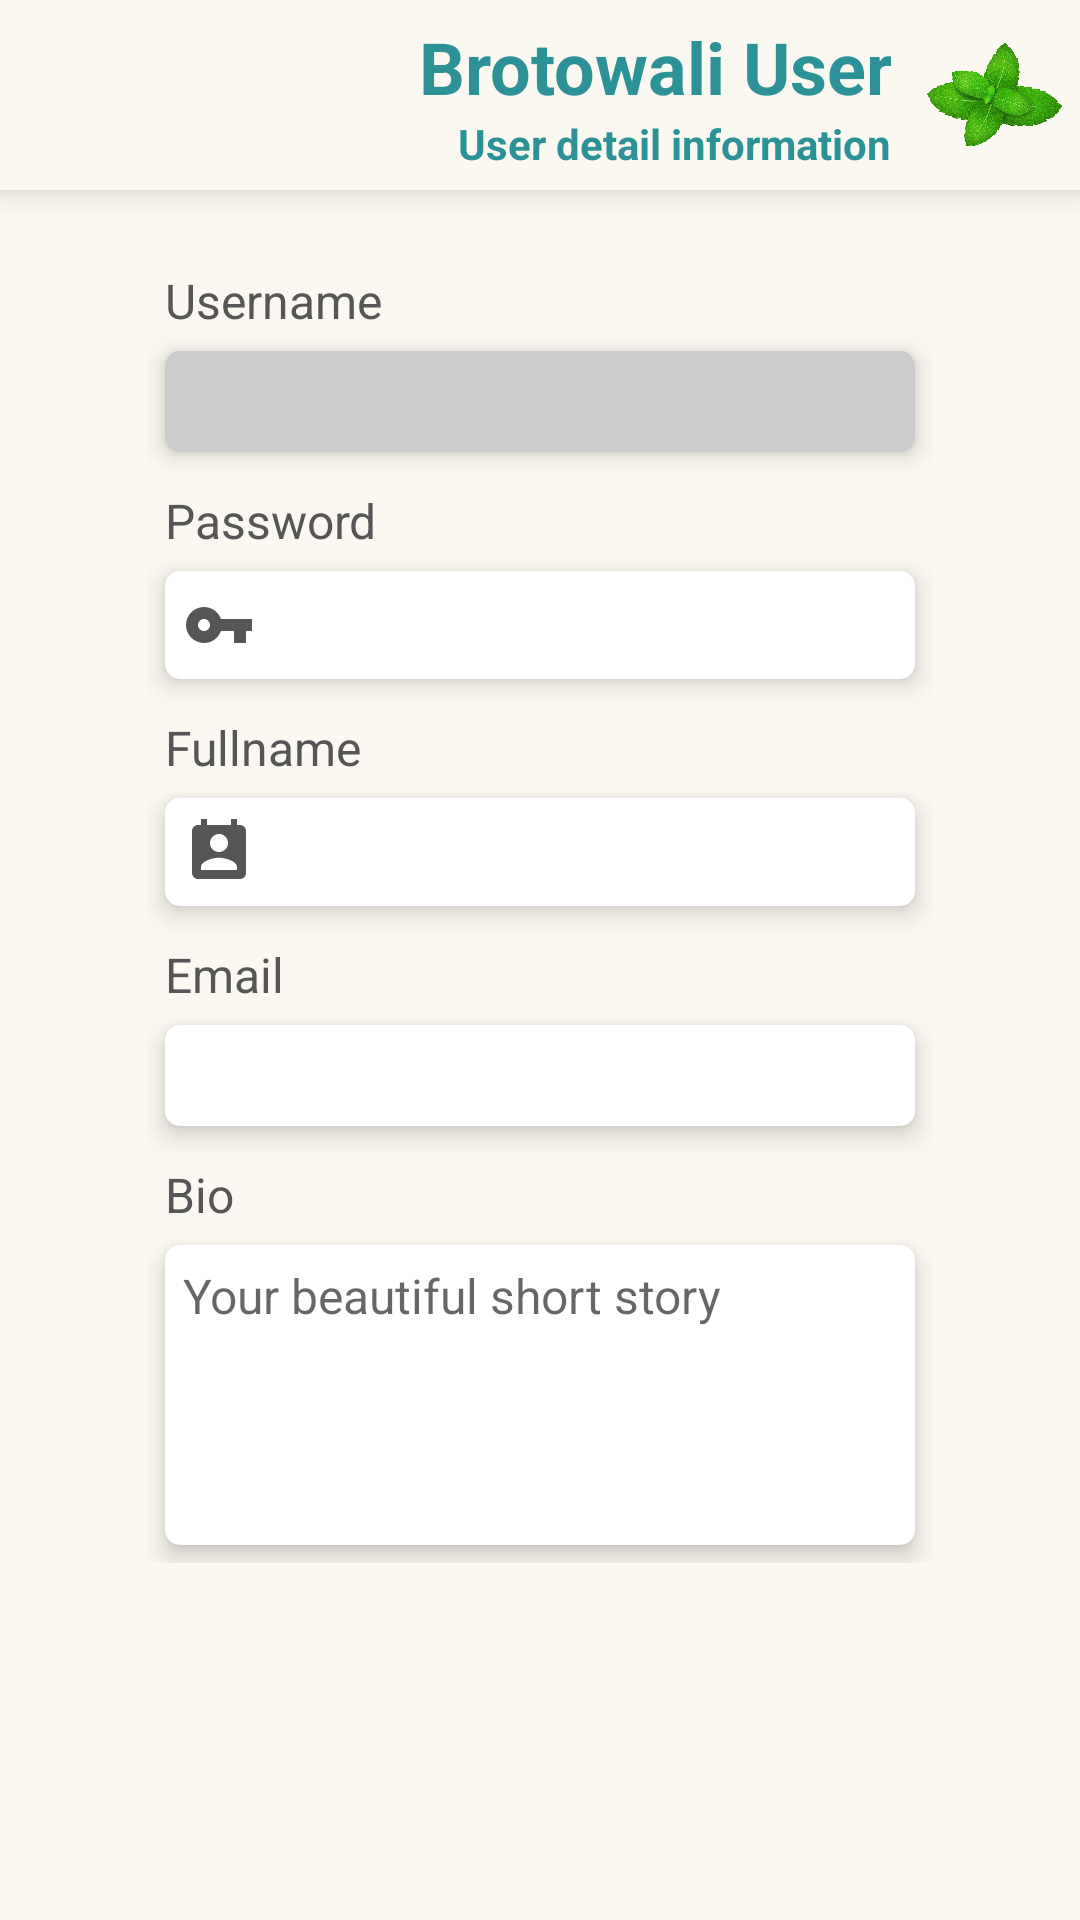

Icon bounding boxes for this 1080×1920 phone screenshot, format (x1, y1, x2, y2):
godong: (927, 43, 1062, 146)
